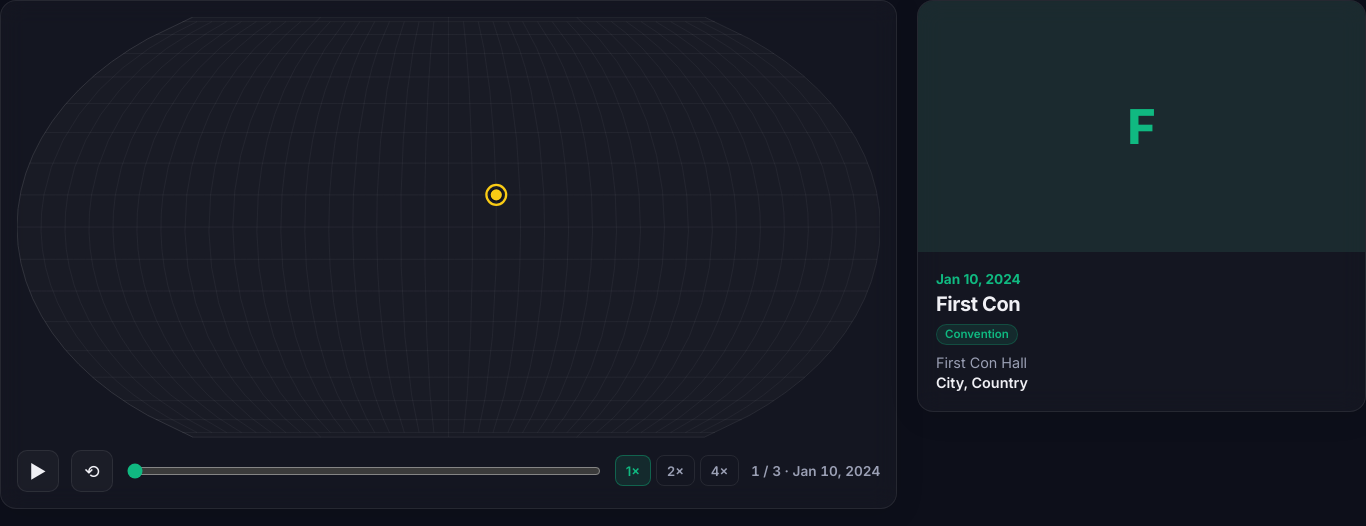
Animate › scrubs to any point in the timeline
The image size is (1366, 526).
Set the slider named "Timeline position" to "2": (593, 471) [127,463,601,479]
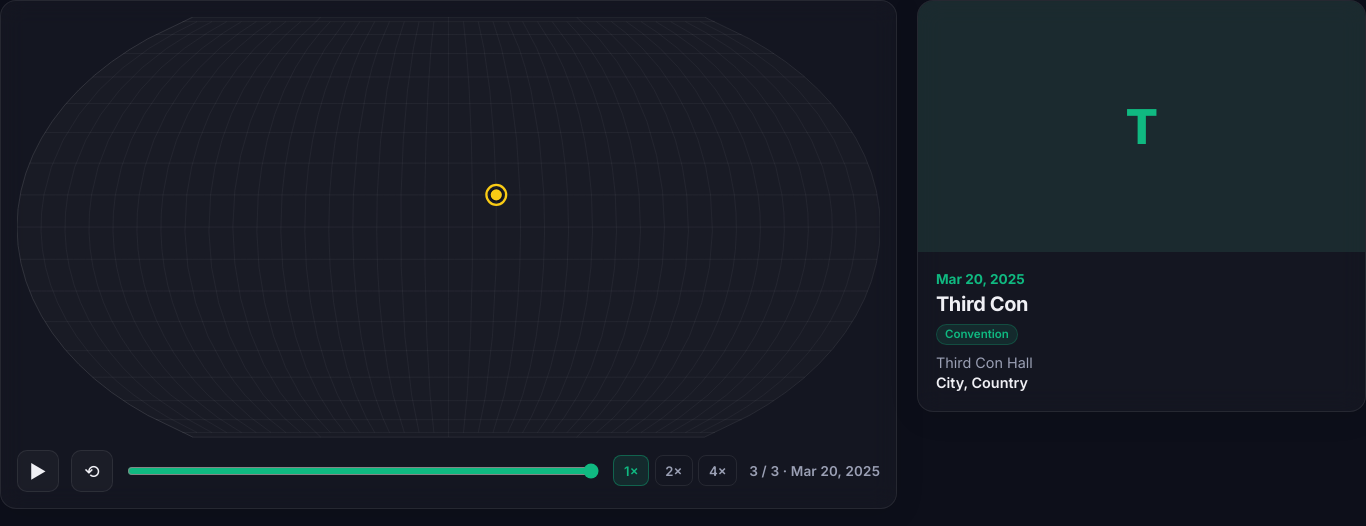
Expected: the heading "Third Con" is shown, [936,292,1028,316]
Expected: the text "3 / 3 · Mar 20, 2025" is shown, [749,463,880,479]
